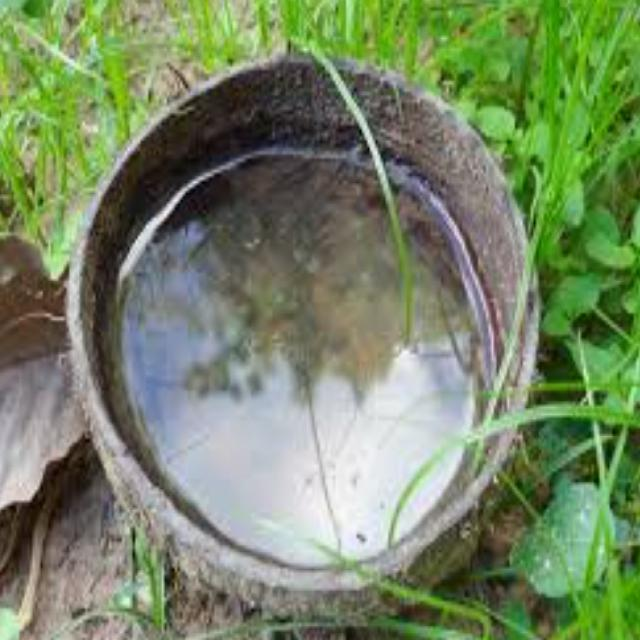Breeding Place: (82, 57, 522, 574)
